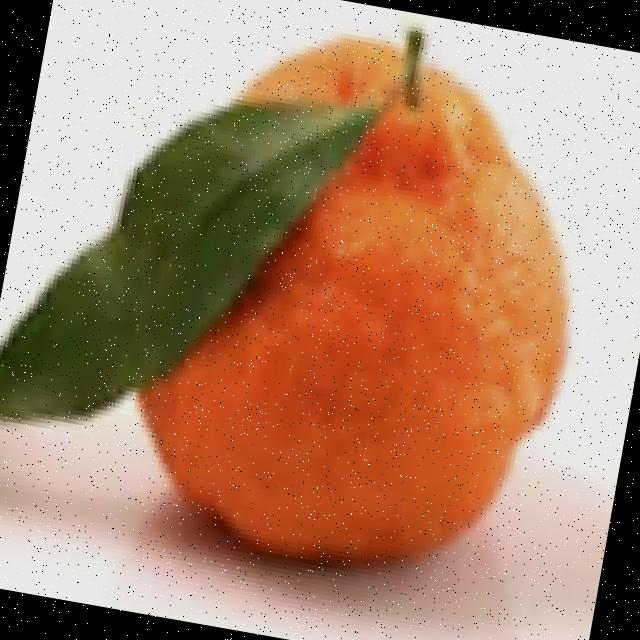orange: (68, 0, 609, 598)
